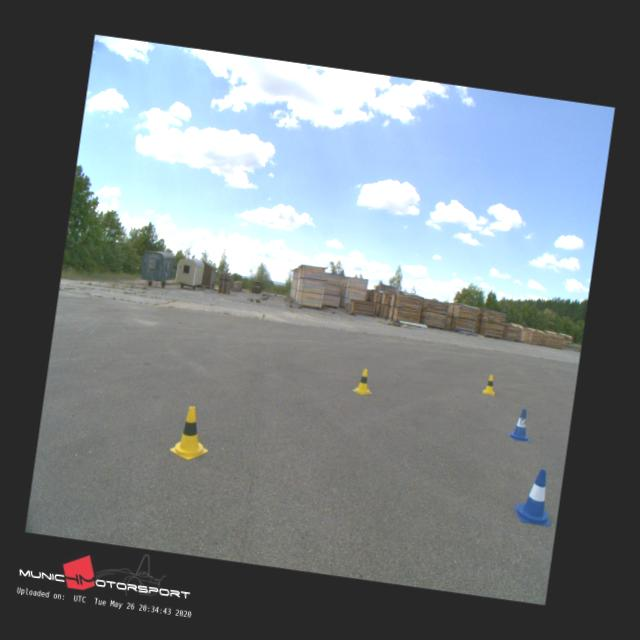blue_cone: (514, 466, 556, 526), (508, 407, 536, 442)
yellow_cone: (168, 403, 214, 462), (352, 366, 373, 394), (482, 374, 497, 394)
